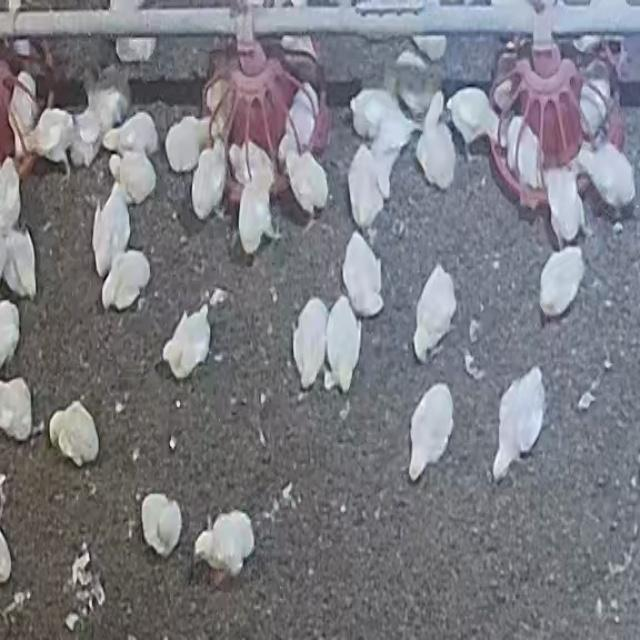chicken: (489, 370, 550, 487), (413, 96, 476, 198), (190, 504, 261, 584), (406, 262, 460, 363), (398, 383, 454, 479), (542, 242, 603, 324), (579, 136, 640, 215), (0, 228, 54, 317), (326, 293, 371, 395), (290, 298, 338, 390), (98, 145, 162, 213), (162, 304, 220, 375), (231, 176, 279, 260), (86, 188, 132, 274), (344, 238, 391, 322), (18, 104, 79, 167), (536, 173, 592, 241), (293, 144, 341, 223), (72, 91, 121, 160), (448, 86, 507, 143), (138, 496, 188, 562), (104, 251, 158, 312), (52, 396, 99, 466), (96, 108, 163, 156), (347, 90, 410, 141), (507, 118, 553, 186), (186, 144, 228, 218), (172, 109, 222, 168), (344, 151, 386, 220), (1, 378, 39, 453), (4, 75, 41, 147), (234, 138, 276, 198), (369, 113, 402, 187), (5, 156, 25, 256), (281, 89, 319, 139), (272, 123, 308, 165), (0, 300, 20, 373), (0, 518, 13, 588)
